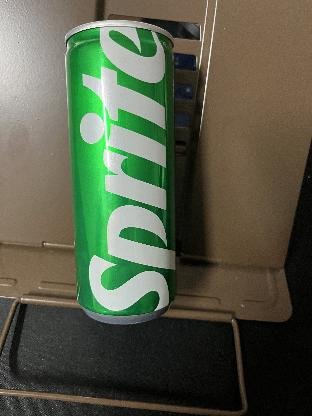Can: (64, 18, 176, 326)
